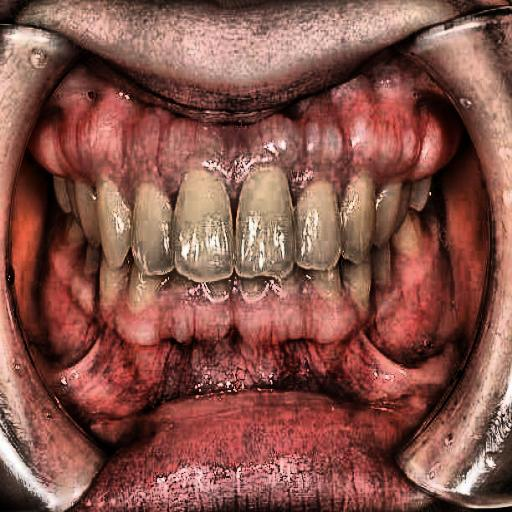Gingivitis: (31, 102, 194, 194), (47, 254, 174, 370), (344, 79, 472, 187), (189, 274, 335, 366), (202, 94, 329, 180)
